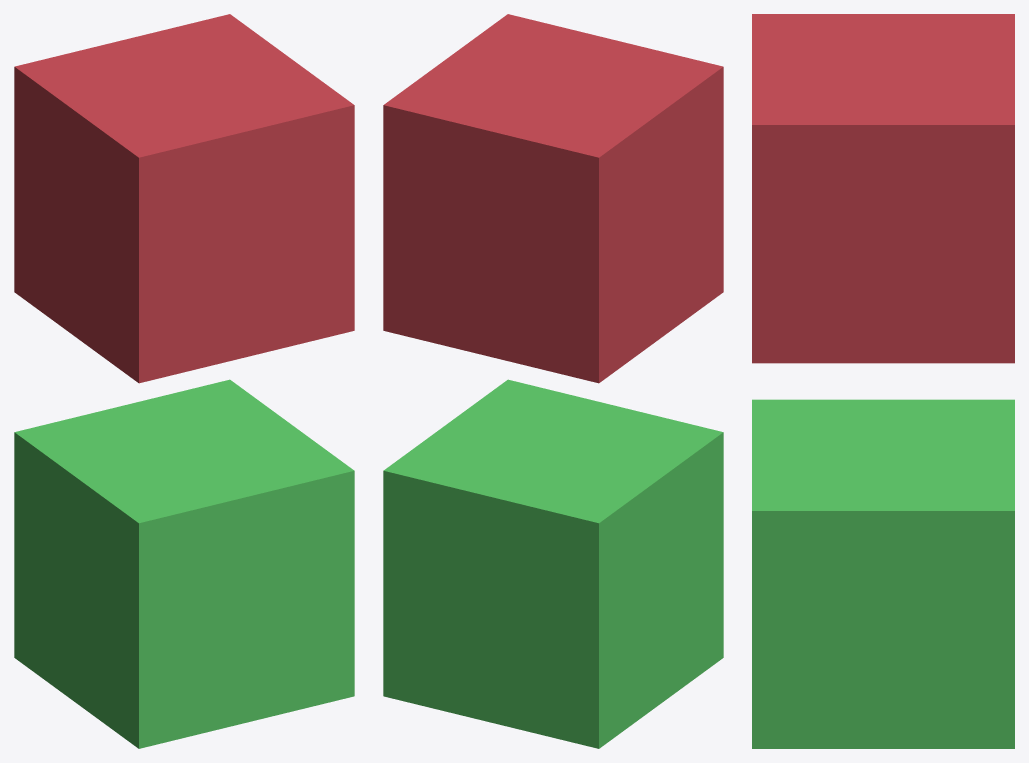
The model's file is Kuboak.dae.
3 renders of one model, left to right at view 1: azimuth 30°, elevation 25°; view 2: azimuth 150°, elevation 25°; view 3: azimuth 270°, elevation 25°, orthographic. The views are drawn at different scales.
Parts seen in each view (by area): view 1: Cube_001, Cube; view 2: Cube_001, Cube; view 3: Cube_001, Cube.
Boxes of the visible parts, x1=… form: Cube_001: x1=14, y1=14, x2=354, y2=383; Cube: x1=14, y1=379, x2=354, y2=748; Cube_001: x1=383, y1=14, x2=723, y2=383; Cube: x1=383, y1=379, x2=723, y2=748; Cube_001: x1=752, y1=14, x2=1014, y2=363; Cube: x1=752, y1=399, x2=1014, y2=748.
Bounding box in the file's own units: 2 × 2 × 5.24.
